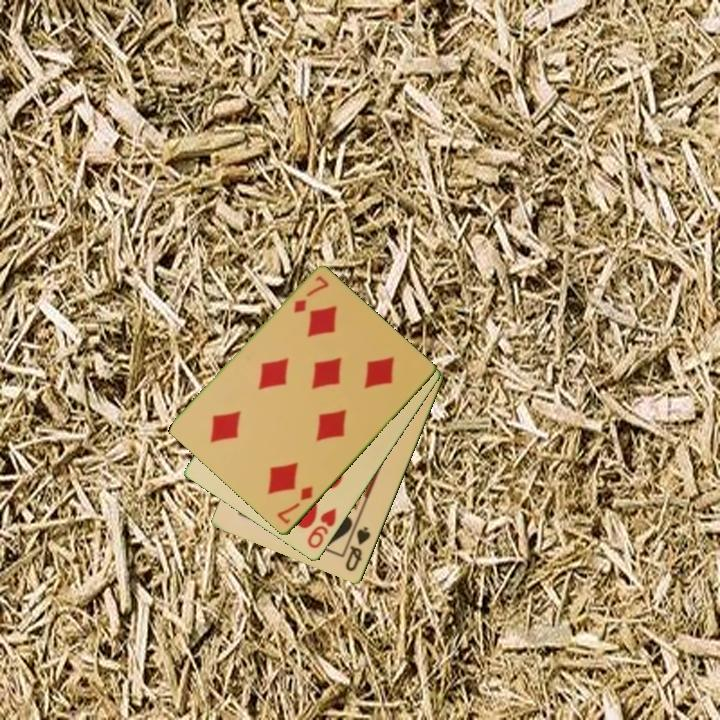7d: (273, 483, 316, 528), (290, 272, 331, 316)
9h: (304, 505, 340, 552)
Qs: (342, 523, 374, 575)
